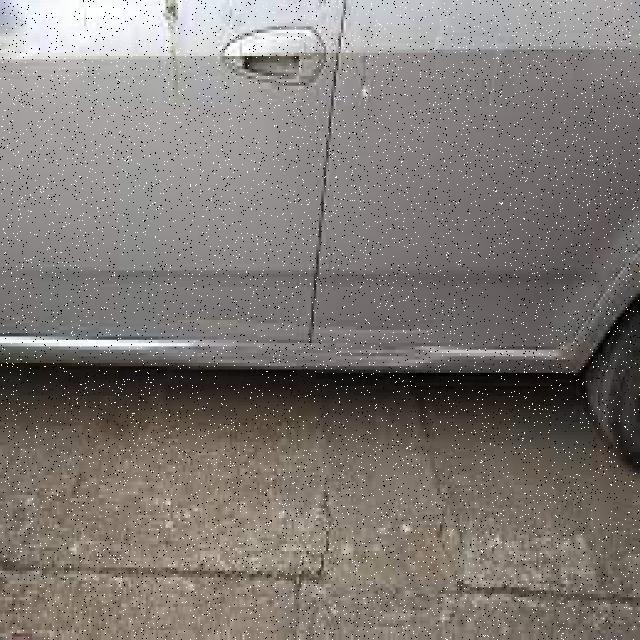RunningBoard-Dent: (103, 336, 454, 386)
doorouter-dent: (316, 0, 638, 343), (2, 0, 319, 343)
